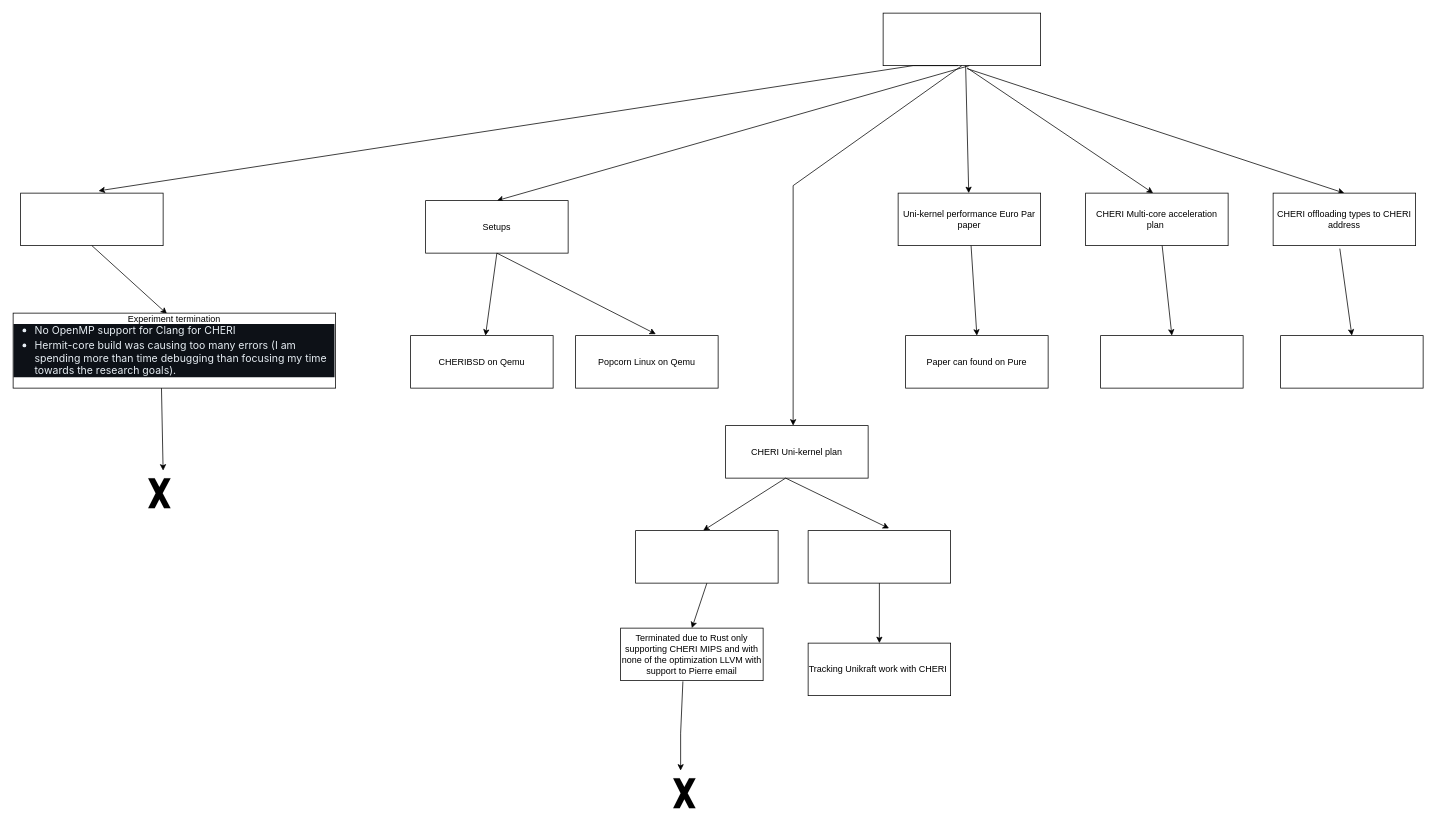
Image size: 1436x821. Some labels were removed from this diagram. Each missing label, with the box of its shape:
Comparing performance CHERIBSD, Baremetal and HermitTUX: (20, 192, 163, 246)
Dependent on the Multi-core CHERI expirement: (1280, 335, 1423, 388)
Expirements / tasks: (882, 12, 1041, 66)
Planning phase: (1100, 335, 1243, 388)
Porting Rusty-Hermit: (635, 530, 778, 583)
Using Unikraft implementation: (807, 530, 951, 583)
